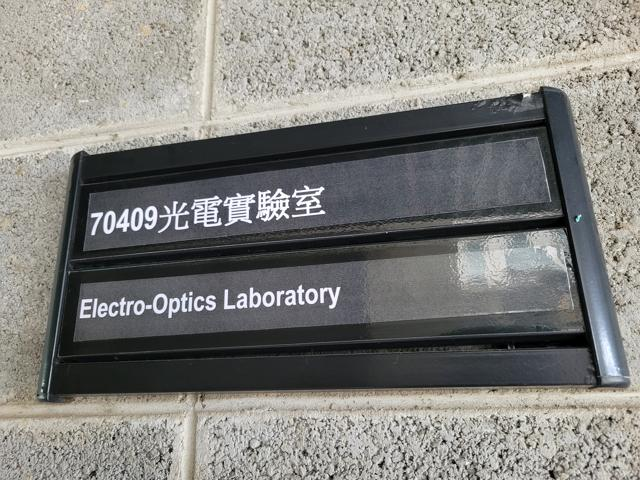doorplate: (29, 77, 635, 409)
